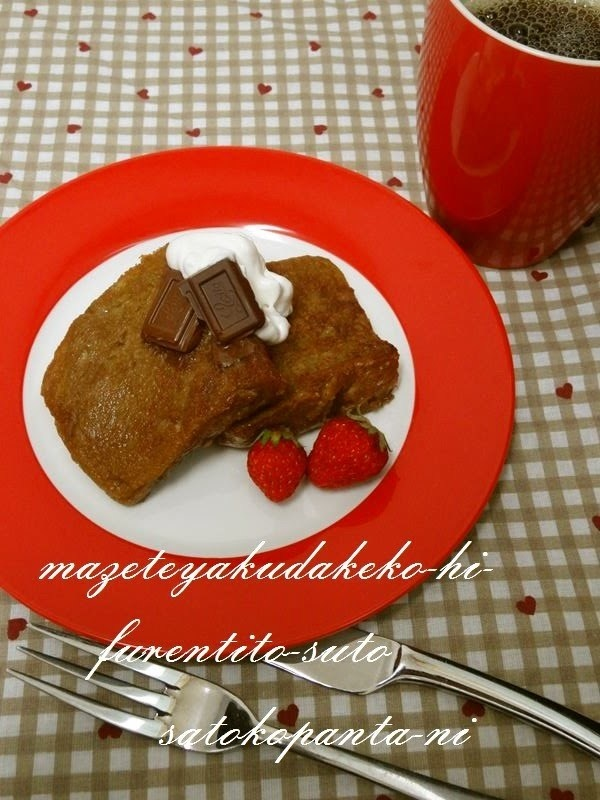background: (38, 291, 374, 631), (132, 0, 562, 75)
